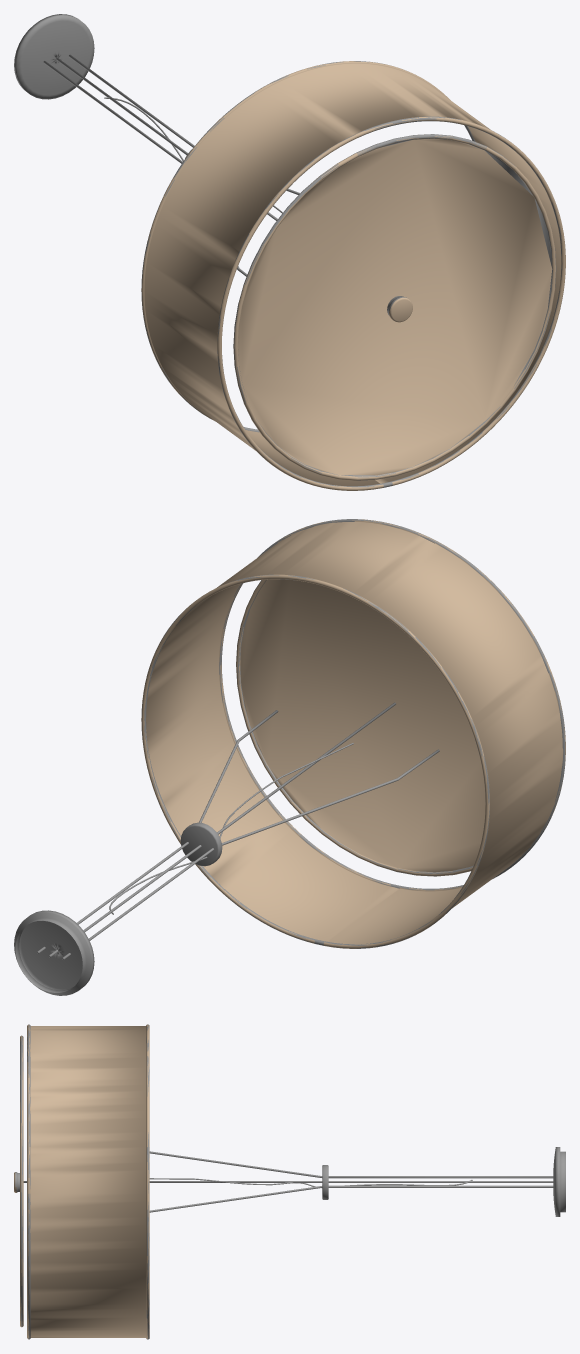
Rendered from LampeWZ.dae.
The picture shows the model from 3 angles, top to bottom: view 1: azimuth 30°, elevation 25°; view 2: azimuth 150°, elevation 25°; view 3: azimuth 270°, elevation 25°; orthographic projection. The views are drawn at different scales.
Visible parts, largest first — view 1: Circle01_001, Circle01; view 2: Circle01_001, Circle01; view 3: Circle01_001, Circle01.
Part boxes in pixels (left/top/right/bottom): Circle01_001: left=141, top=61, right=565, bottom=490; Circle01: left=14, top=14, right=565, bottom=487; Circle01_001: left=141, top=519, right=565, bottom=948; Circle01: left=14, top=519, right=565, bottom=995; Circle01_001: left=14, top=1024, right=149, bottom=1339; Circle01: left=15, top=1024, right=565, bottom=1339.
Size of the model in its own units: 5.17 by 9.05 by 5.17.
